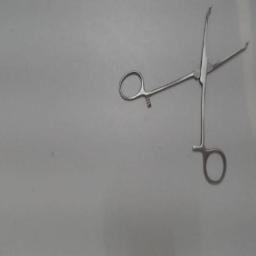Allis Tissue Forceps: (114, 2, 254, 190)
